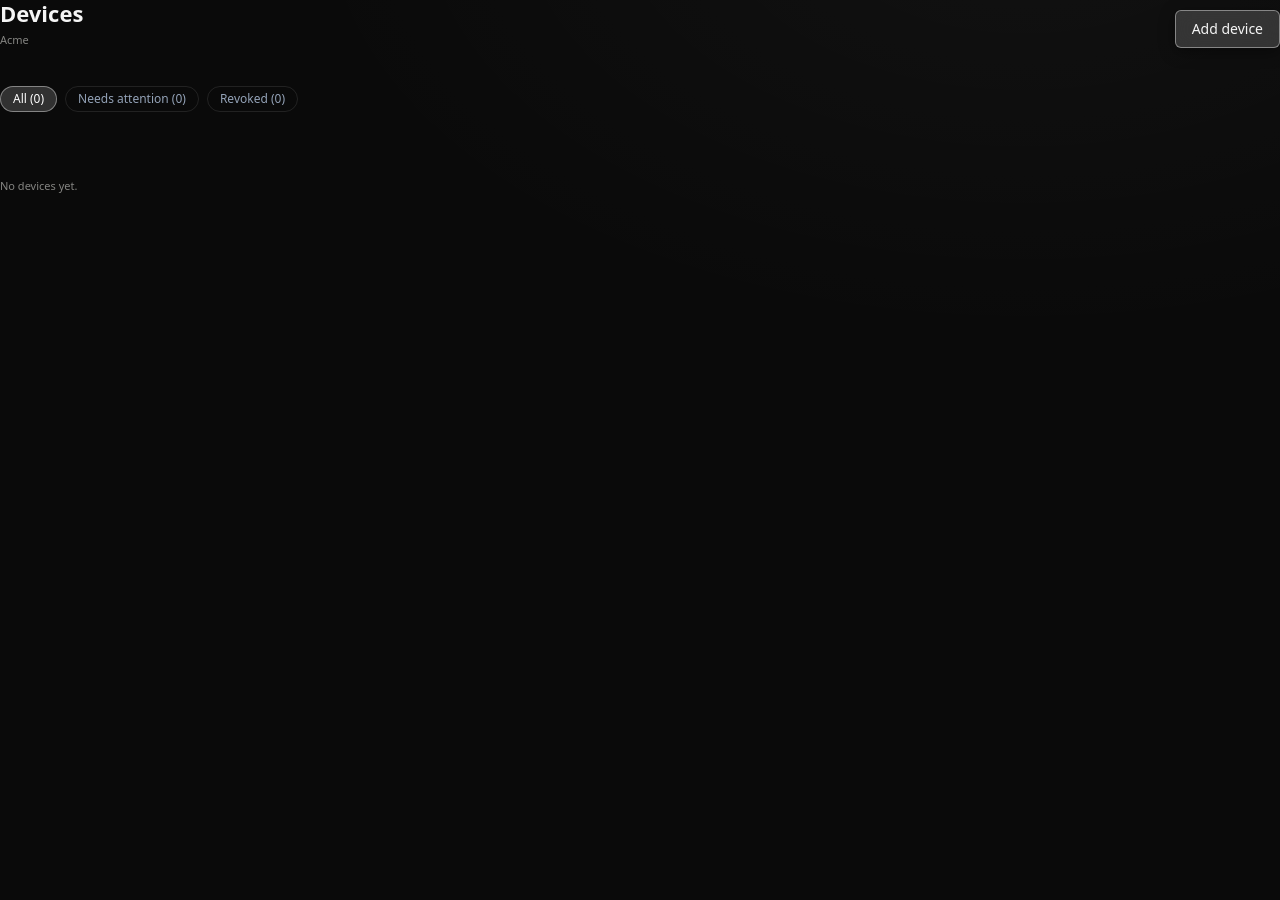
Test: Devices, creation is a dialog, not a permanent form › ⛔ THE FORM IS ABSENT UNTIL ASKED FOR
expect the field with placeholder "my-laptop" is not shown: met
expect the button "create device" is not shown: met
# …until the trigger is used.
Click the button "Add device": (1227, 29) [1175, 10, 1279, 48]
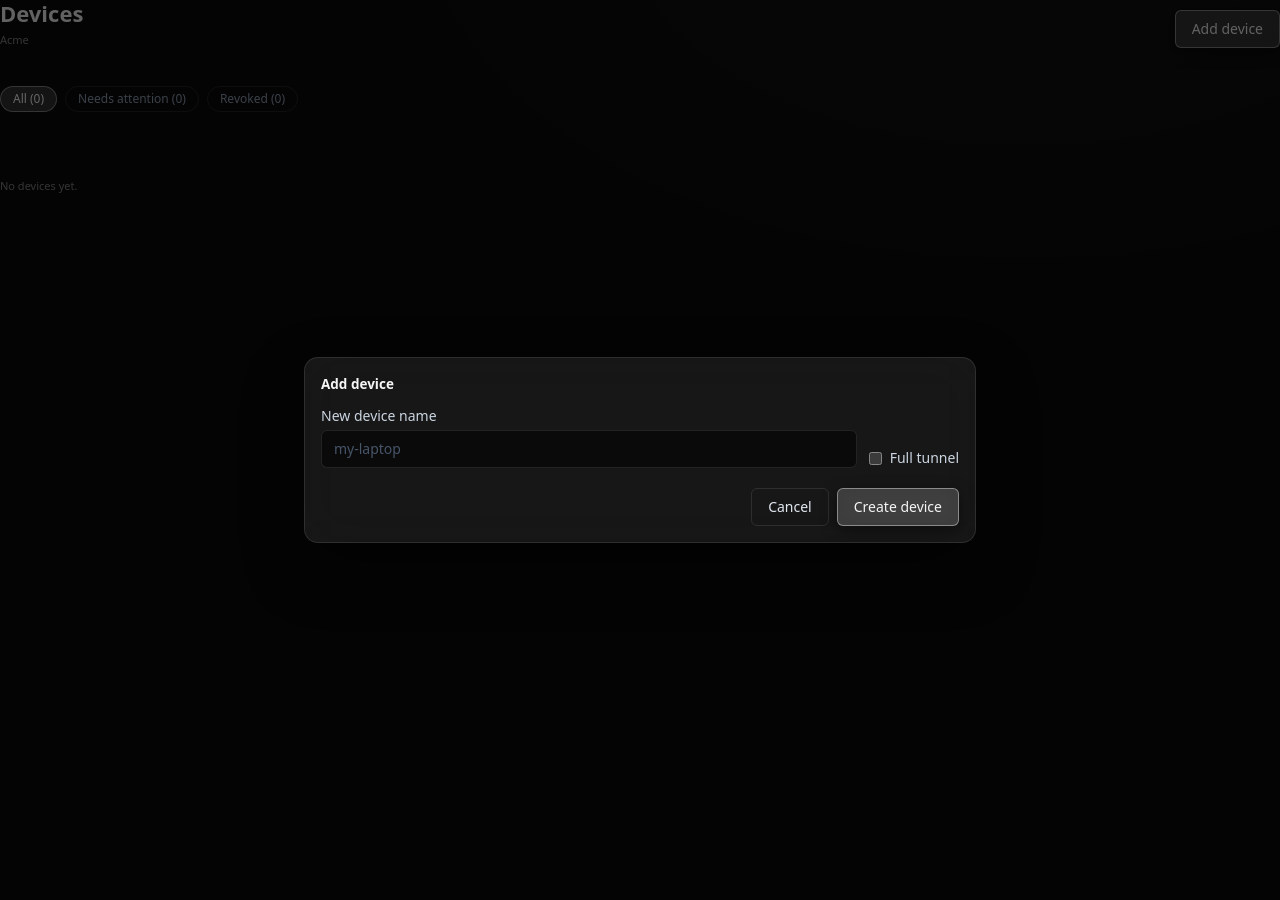
expect the field with placeholder "my-laptop" is shown: met, box [321, 430, 857, 468]
expect the button "Create device" is shown: met, box [837, 488, 959, 526]
